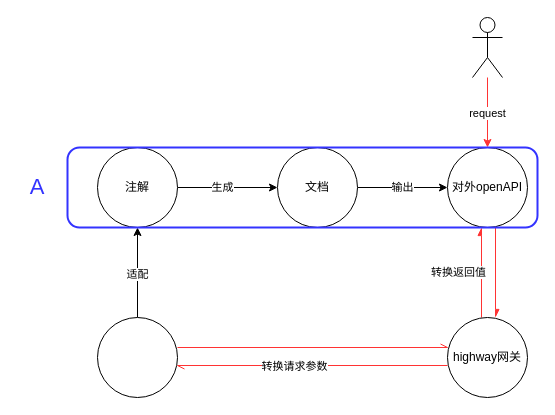
Image size: 555x415. Some labels were removed from this diagram. Each missing label, with the centre of its shape:
Actor: the point at 487,47
controller接口: the point at 137,357
